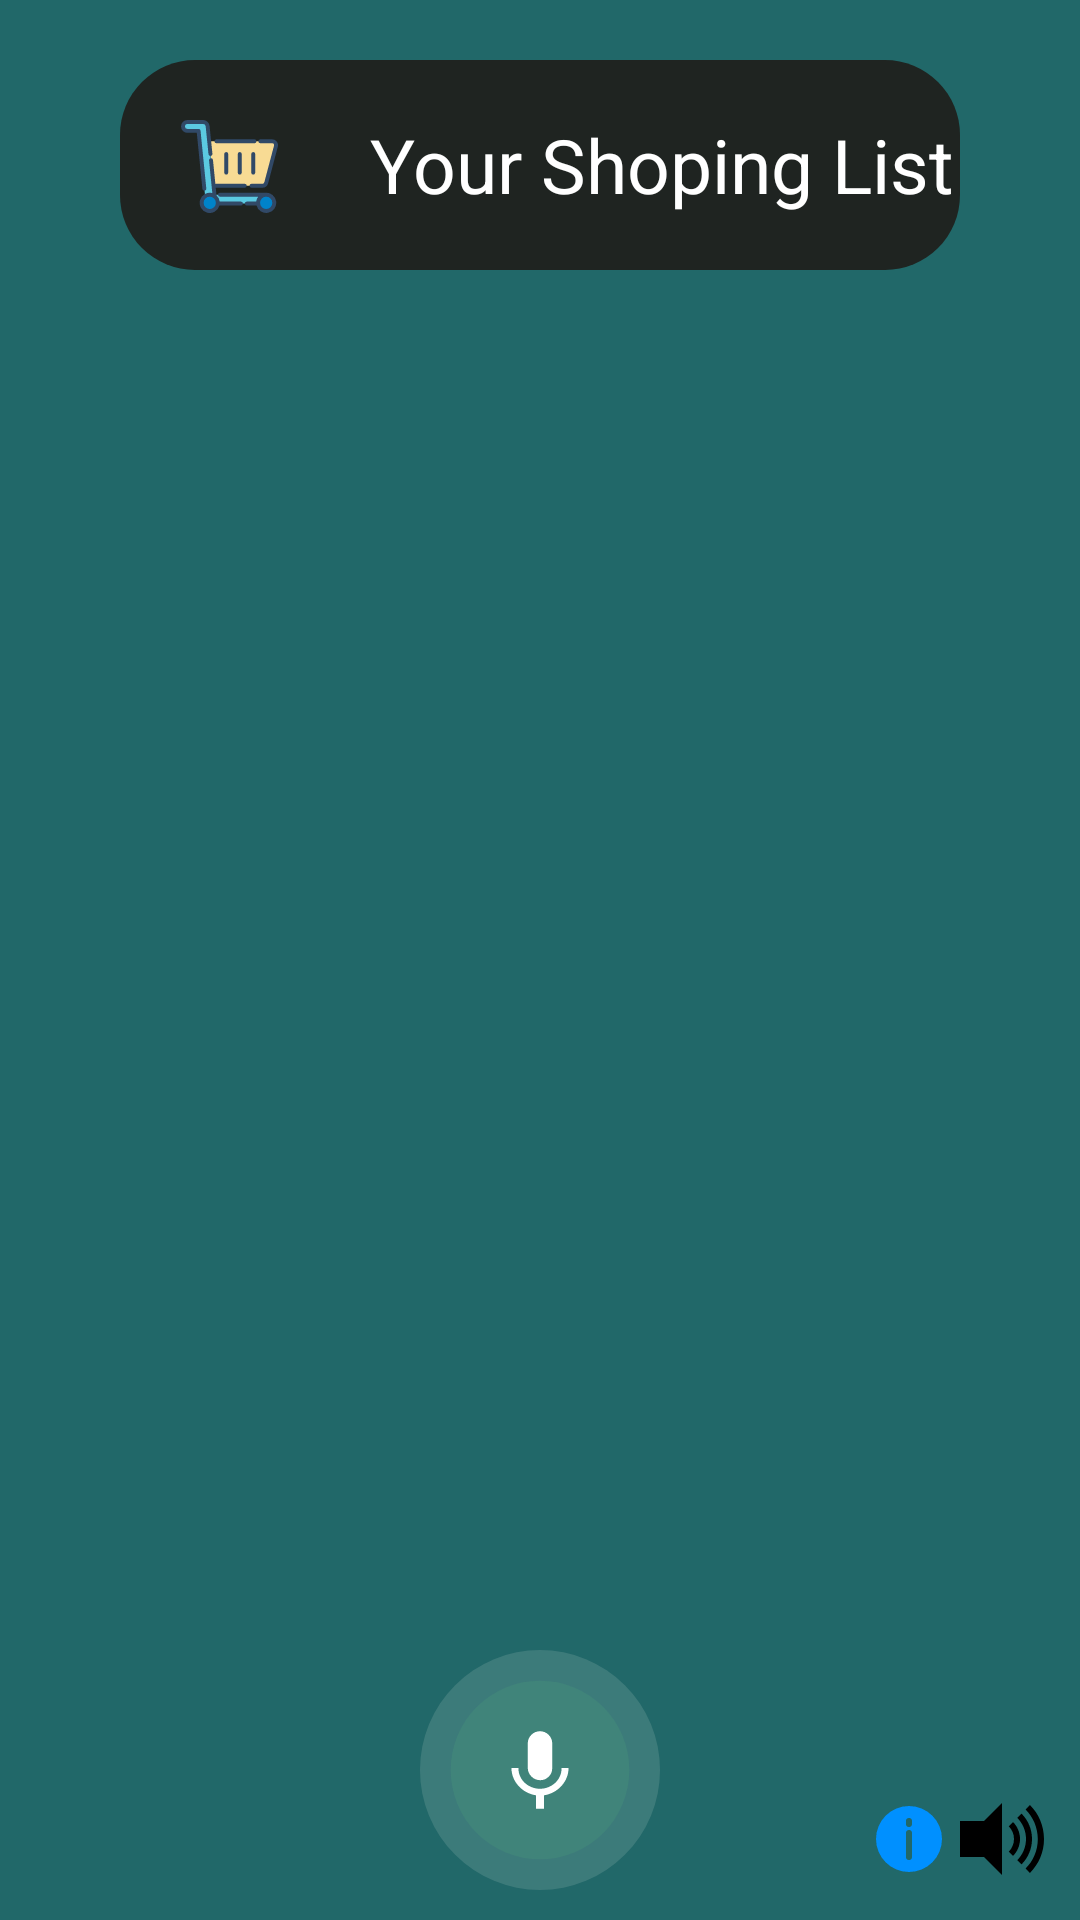

Locate icon controls on the screen. Image size 1080 x 1920, boxes as {"x1": x1, "y1": y1, "x2": x2, "y2": y2}.
info: {"x1": 876, "y1": 1806, "x2": 942, "y2": 1872}
micro: {"x1": 420, "y1": 1650, "x2": 660, "y2": 1890}
speaker: {"x1": 960, "y1": 1803, "x2": 1044, "y2": 1875}
